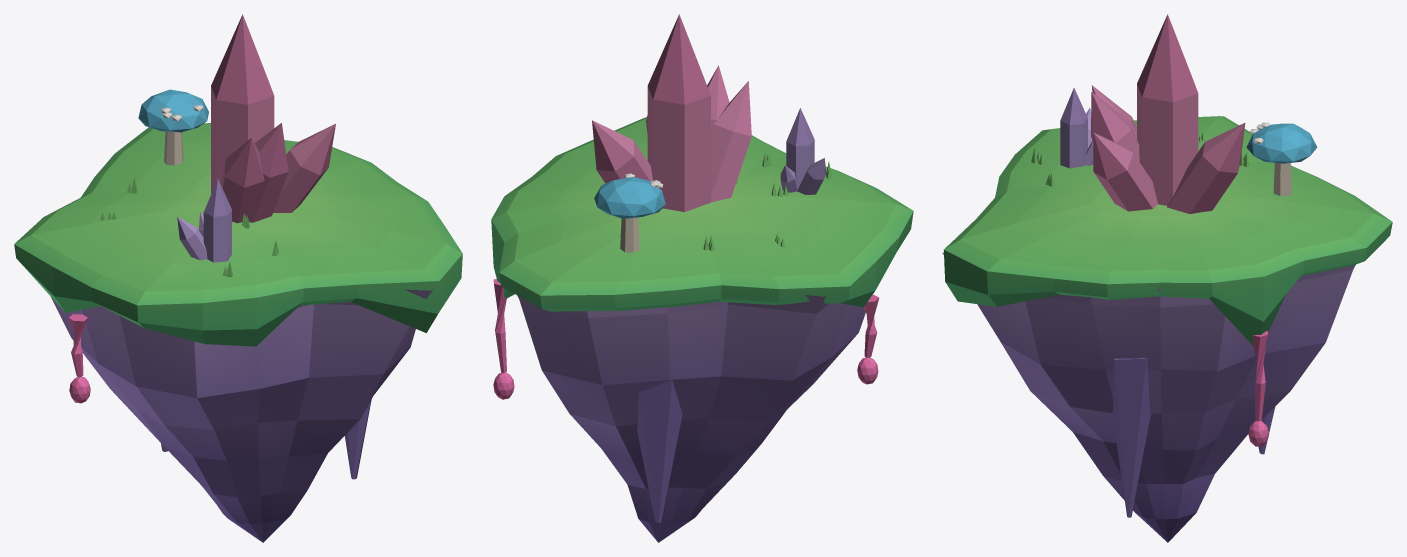
Rendered from obby_island_crystal.fbx.
3 renders of one model, left to right at view 1: azimuth 30°, elevation 25°; view 2: azimuth 150°, elevation 25°; view 3: azimuth 270°, elevation 25°, orthographic. The views are drawn at different scales.
Parts seen in each view (by area): view 1: obby_island_crystal; view 2: obby_island_crystal; view 3: obby_island_crystal.
Boxes of the visible parts, x1,y1,x2,y2 form: obby_island_crystal: (14,14,462,542); obby_island_crystal: (491,14,913,542); obby_island_crystal: (942,14,1392,542).
Size of the model in its own units: 27.04 by 38.96 by 30.65.
